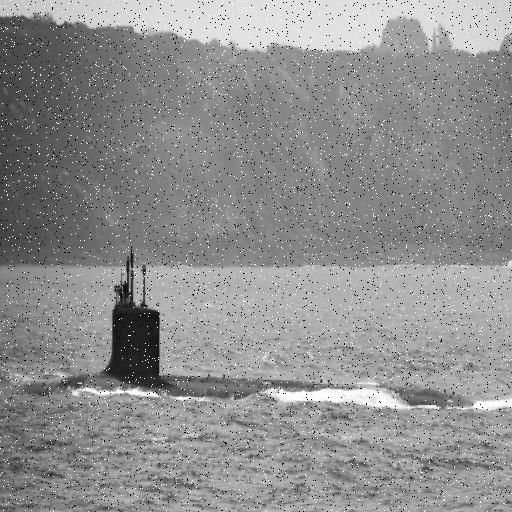submarine: (63, 251, 512, 399)
